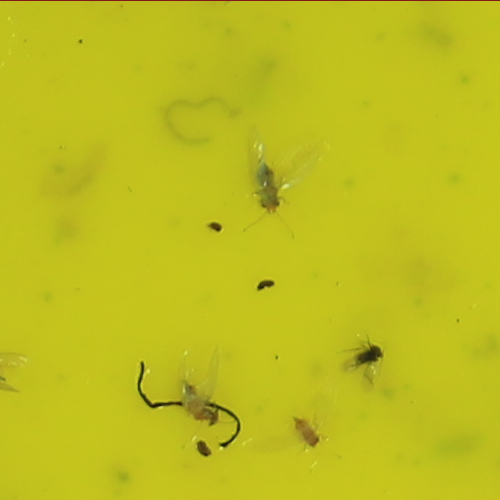Glycaspis: (252, 161, 282, 214)
